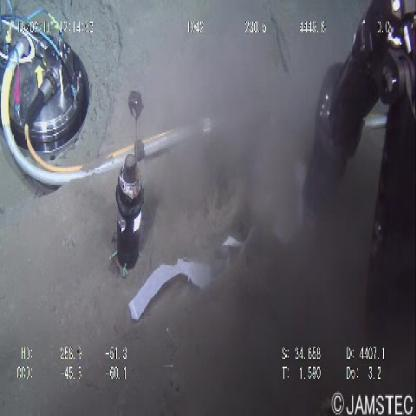Rov: (297, 1, 415, 263), (0, 1, 94, 190), (108, 83, 154, 288)
Rác: (126, 214, 287, 324)
